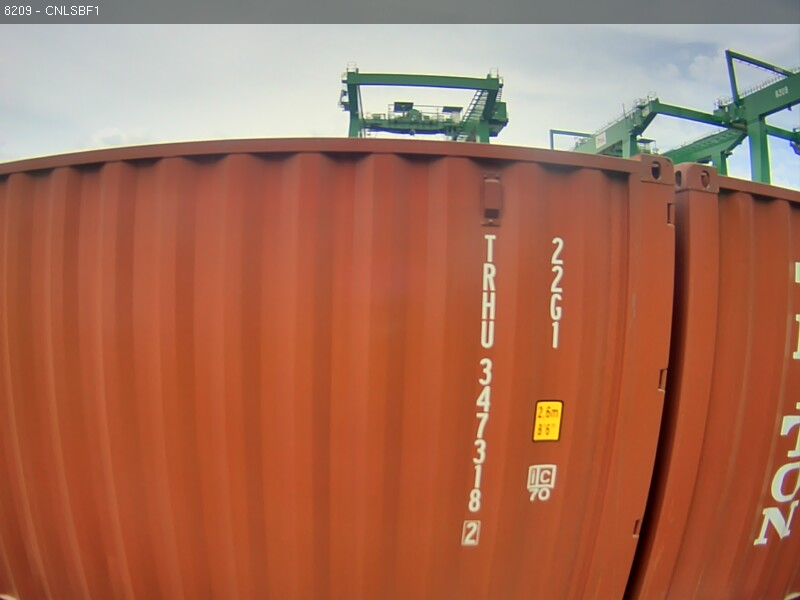container_no_door: (175, 130, 681, 575)
